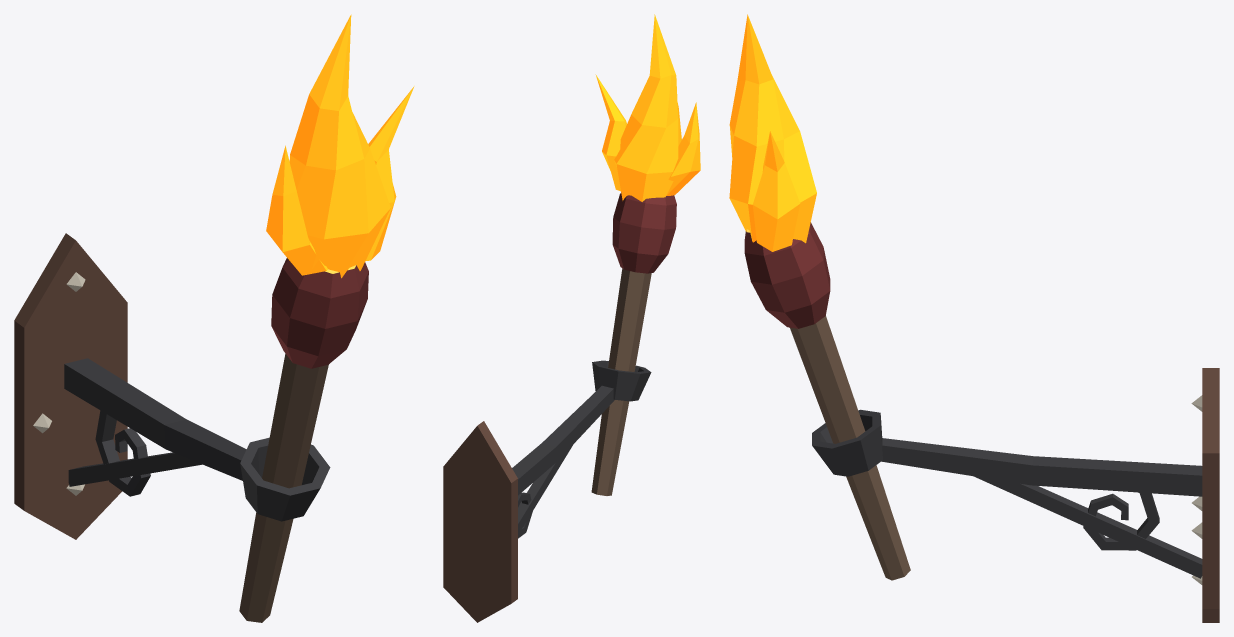
The model's file is torch-sconce.glb.
3 views of the same model, side by side, from view 1: azimuth 30°, elevation 25°; view 2: azimuth 150°, elevation 25°; view 3: azimuth 270°, elevation 25° (orthographic). The views are drawn at different scales.
Parts seen in each view (by area): view 1: wall_plate, flame, torch_handle, torch_head, bracket_arm, bracket_ring, bracket_strut, bracket_scroll, wall_rivets; view 2: wall_plate, flame, torch_handle, torch_head, bracket_arm, bracket_ring, bracket_strut; view 3: flame, bracket_arm, torch_handle, torch_head, wall_plate, bracket_strut, bracket_ring, bracket_scroll.
Part boxes in pixels (x1=…): wall_plate: x1=14, y1=233, x2=127, y2=539; flame: x1=266, y1=14, x2=414, y2=278; torch_handle: x1=239, y1=353, x2=328, y2=622; torch_head: x1=271, y1=258, x2=368, y2=368; bracket_arm: x1=64, y1=358, x2=246, y2=480; bracket_ring: x1=240, y1=437, x2=330, y2=521; bracket_strut: x1=68, y1=452, x2=202, y2=486; bracket_scroll: x1=95, y1=410, x2=150, y2=496; wall_rivets: x1=33, y1=272, x2=85, y2=495; wall_plate: x1=443, y1=421, x2=517, y2=622; flame: x1=595, y1=14, x2=700, y2=201; torch_handle: x1=591, y1=268, x2=651, y2=495; torch_head: x1=612, y1=192, x2=676, y2=273; bracket_arm: x1=512, y1=385, x2=614, y2=495; bracket_ring: x1=592, y1=360, x2=651, y2=401; bracket_strut: x1=518, y1=445, x2=572, y2=534; flame: x1=729, y1=14, x2=816, y2=251; bracket_arm: x1=881, y1=438, x2=1202, y2=496; torch_handle: x1=790, y1=315, x2=910, y2=580; torch_head: x1=744, y1=222, x2=830, y2=328; wall_plate: x1=1202, y1=368, x2=1219, y2=622; bracket_strut: x1=974, y1=476, x2=1202, y2=578; bracket_ring: x1=812, y1=409, x2=882, y2=476; bracket_scroll: x1=1083, y1=492, x2=1159, y2=550.
Size of what is drawn, in the model's own units: 0.1879 by 0.8648 by 0.6274.
